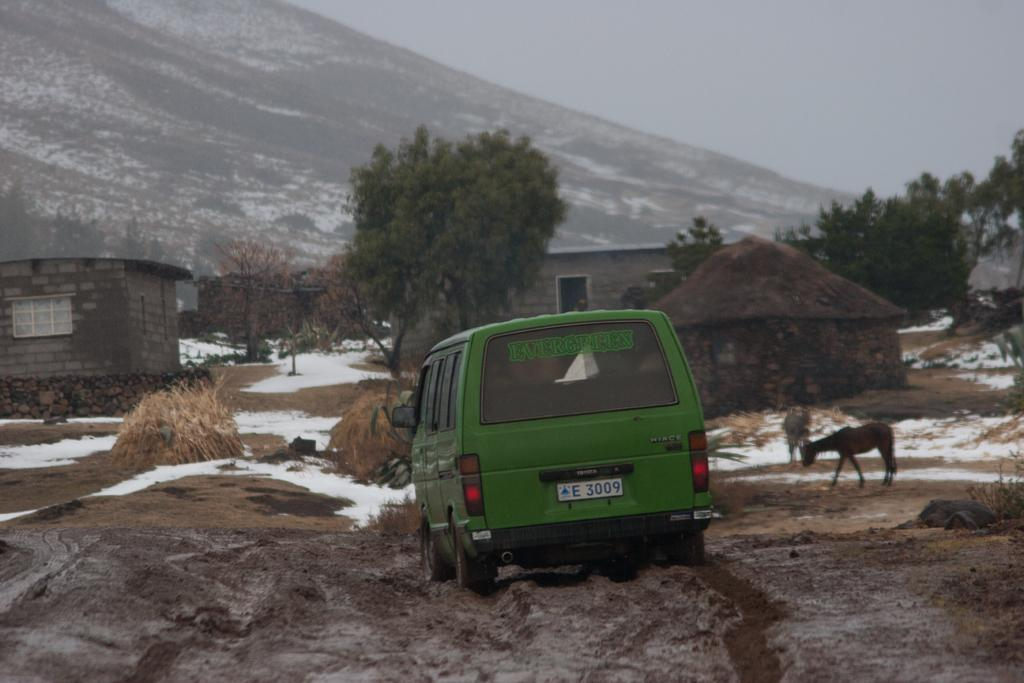vehicle: (392, 308, 713, 593)
